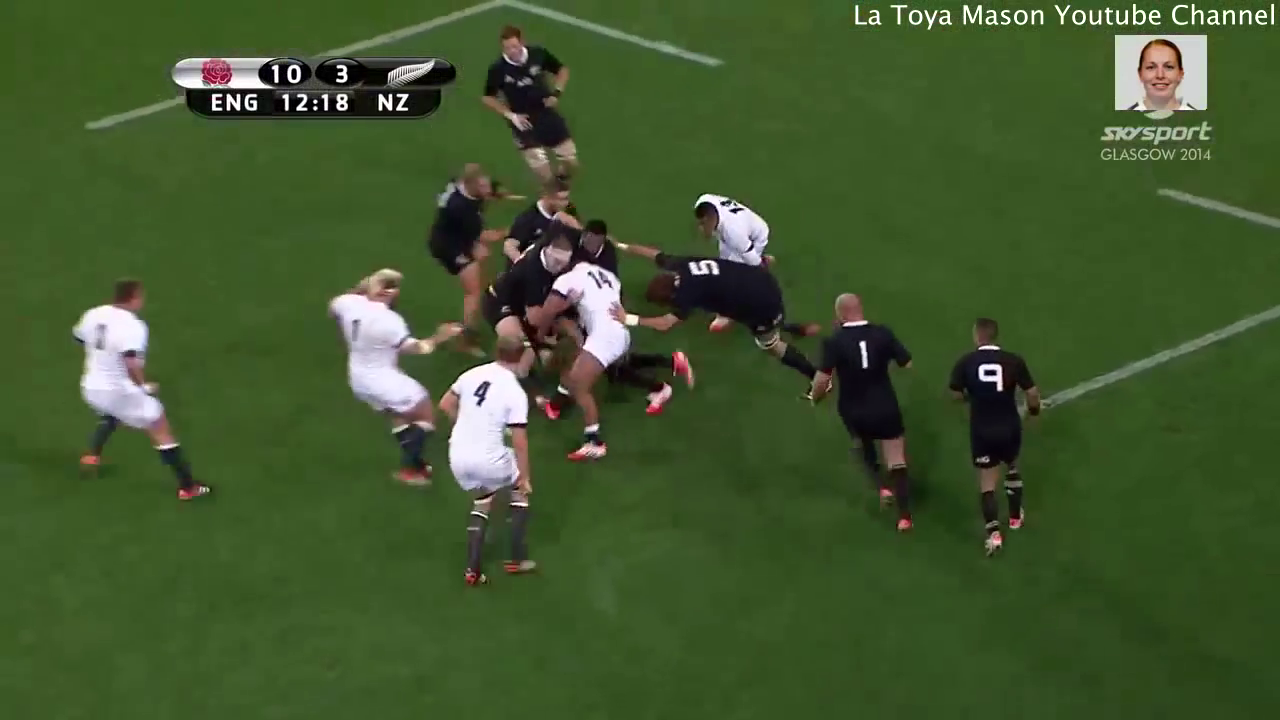player: (57, 271, 211, 515), (795, 283, 933, 541), (938, 305, 1055, 577), (425, 330, 538, 586), (316, 258, 428, 493), (632, 239, 824, 375), (480, 21, 589, 185), (561, 249, 631, 468), (411, 155, 492, 302), (693, 183, 783, 258), (489, 238, 570, 309), (502, 183, 575, 247), (566, 216, 612, 263)
